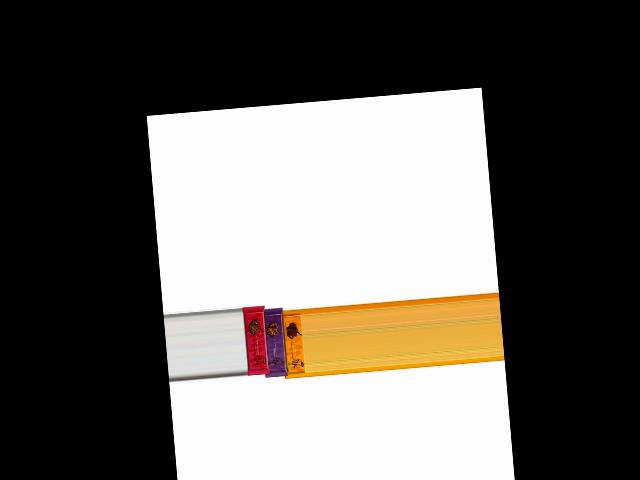chocolate: (241, 301, 269, 378)
